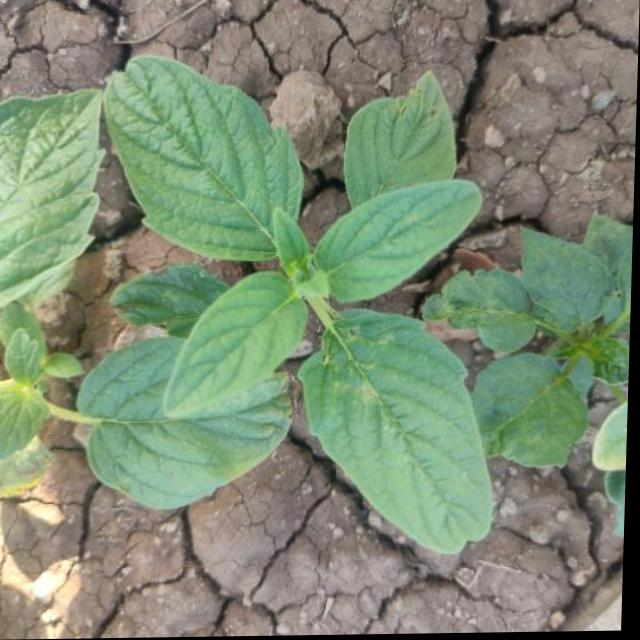crop: (0, 39, 639, 547)
